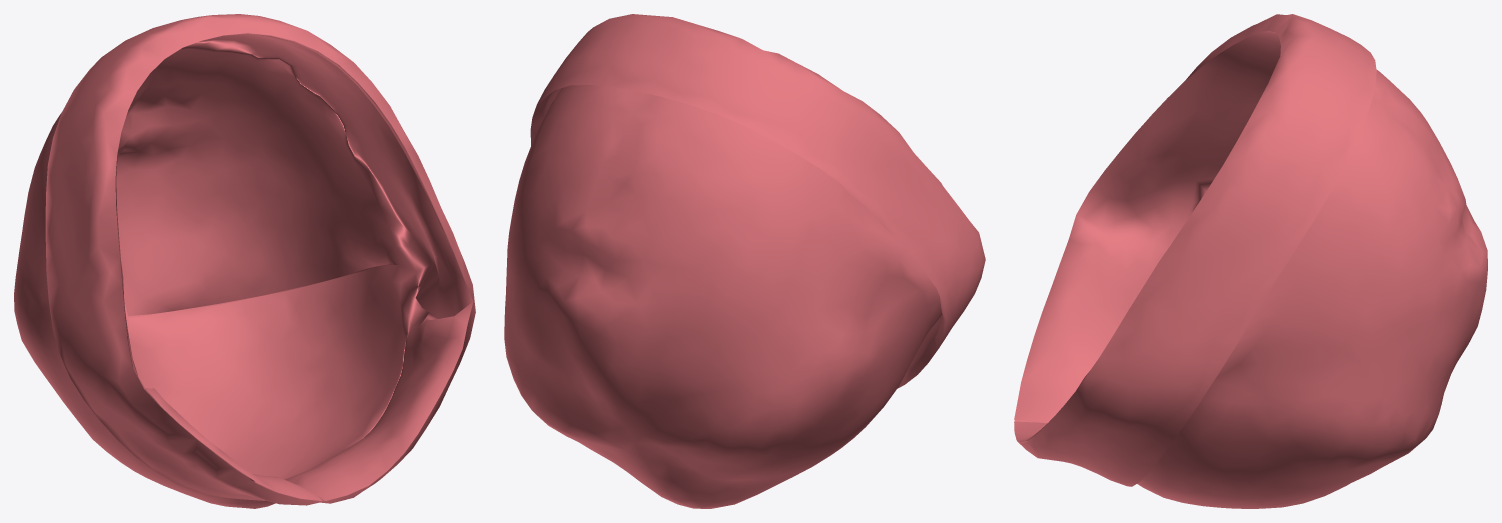
File: female_obs_wl5pEAv.glb
3 renders of one model, left to right at view 1: azimuth 30°, elevation 25°; view 2: azimuth 150°, elevation 25°; view 3: azimuth 270°, elevation 25°, orthographic. The views are drawn at different scales.
Visible parts, largest first — view 1: female_obs; view 2: female_obs; view 3: female_obs.
Boxes of the visible parts, x1,y1,x2,y2 form: female_obs: (14, 14, 475, 508); female_obs: (504, 14, 985, 508); female_obs: (1014, 14, 1487, 508).
Size of the model in its own units: 0.178 by 0.2038 by 0.1851.
